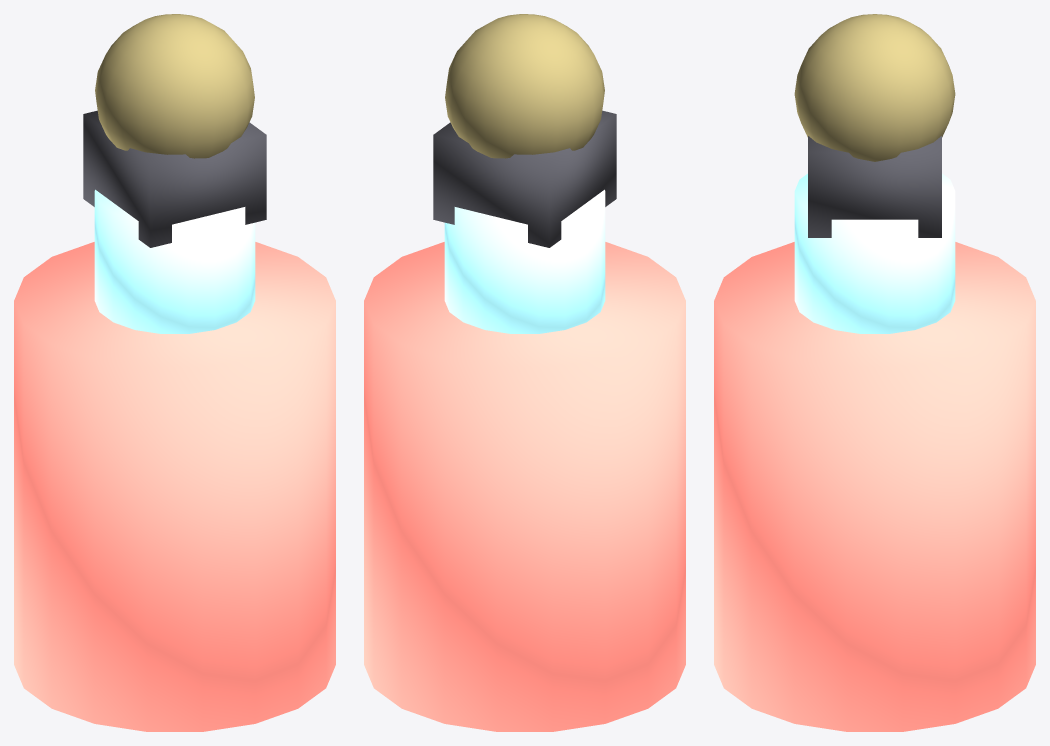
The model's file is Prop_IncreaseRisk.fbx.
The picture shows the model from 3 angles, left to right: view 1: azimuth 30°, elevation 25°; view 2: azimuth 150°, elevation 25°; view 3: azimuth 270°, elevation 25°; orthographic projection.
Visible parts, largest first — view 1: Prop_IncreaseRisk; view 2: Prop_IncreaseRisk; view 3: Prop_IncreaseRisk.
Part boxes in pixels (left/top/right/bottom): Prop_IncreaseRisk: left=14, top=14, right=335, bottom=731; Prop_IncreaseRisk: left=364, top=14, right=685, bottom=731; Prop_IncreaseRisk: left=714, top=14, right=1035, bottom=731.
Size of the model in its own units: 4.73 by 10.6 by 4.8.
